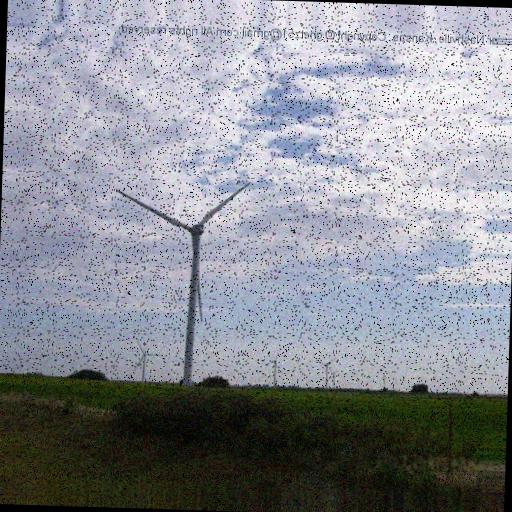wind turbine: (113, 179, 252, 383)
